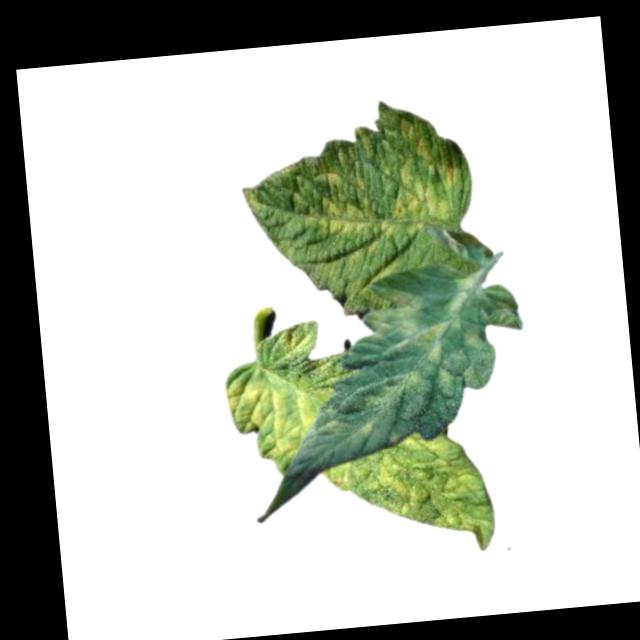Leaf_Mold: (232, 92, 472, 253), (322, 430, 503, 564), (353, 276, 486, 413), (222, 355, 323, 476)
